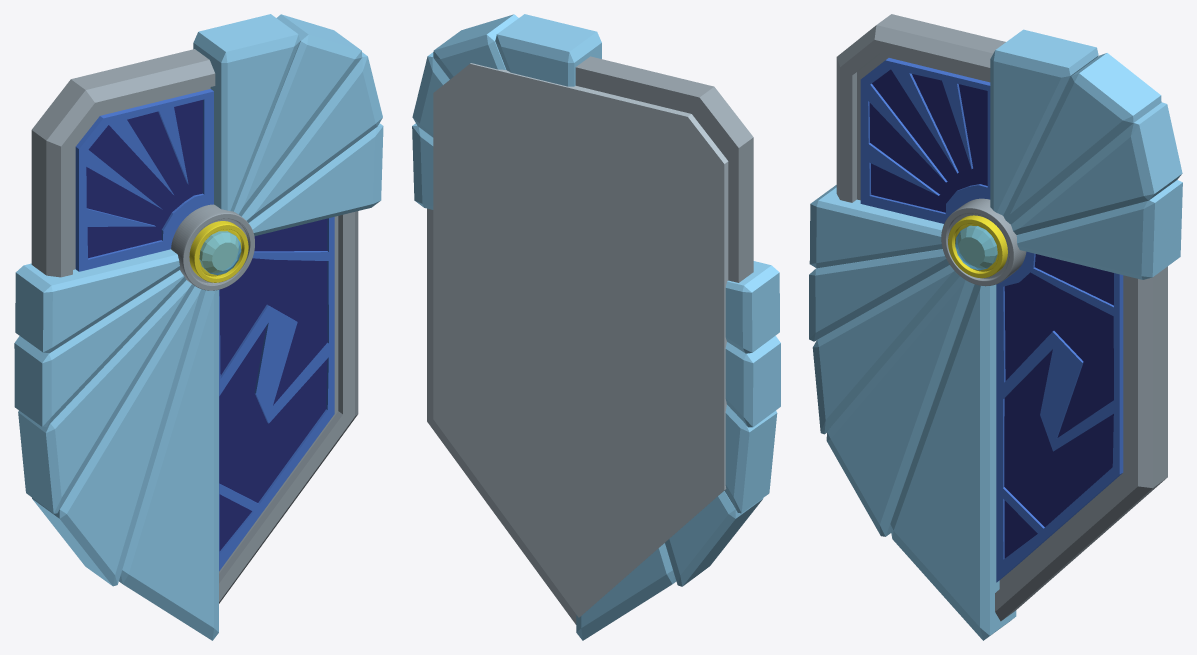
The picture shows the model from 3 angles, left to right: view 1: azimuth 30°, elevation 25°; view 2: azimuth 150°, elevation 25°; view 3: azimuth 330°, elevation 25°; orthographic projection.
Parts seen in each view (by area): view 1: outer, B5, iner Bas, B4, 1, Embed Top, B3, Embed 2, B1, Embed 3, B2, 2 (+7 smaller); view 2: Base_Back, outer, 1, B3, B1, B2, B4, B5, 2, 4, 3; view 3: outer, B5, iner Bas, B4, Embed Top, 1, 2, Embed 2, 3, Embed 3, 4, B3 (+7 smaller).
Boxes of the visible parts, x1,y1,x2,y2 form: outer: (31,49,358,603); B5: (119,290,218,640); iner Bas: (75,89,334,571); B4: (32,286,205,586); 1: (193,14,299,211); Embed Top: (86,100,202,258); B3: (18,280,194,513); Embed 2: (219,326,327,502); B1: (15,249,179,353); Embed 3: (219,258,327,405); B2: (14,270,186,426); 2: (234,14,362,216); Base_Back: (433,63,728,617); outer: (427,56,753,624); 1: (495,14,601,86); B3: (724,405,777,513); B1: (725,261,779,353); B2: (725,336,780,427); B4: (665,491,763,586); B5: (576,543,676,640); 2: (433,14,518,79); 4: (412,123,433,209); 3: (412,52,449,137); outer: (836,14,1167,621); B5: (890,284,1016,640); iner Bas: (860,58,1123,582); B4: (826,276,974,536); Embed Top: (869,69,987,212); 1: (990,29,1098,215); 2: (1003,53,1161,224); Embed 2: (1004,349,1113,526); 3: (1011,102,1182,234); Embed 3: (1004,272,1113,437); 4: (1016,180,1182,279); B3: (812,265,959,434).
Bounding box in the file's own units: 4.32 × 7.1 × 0.9166.
